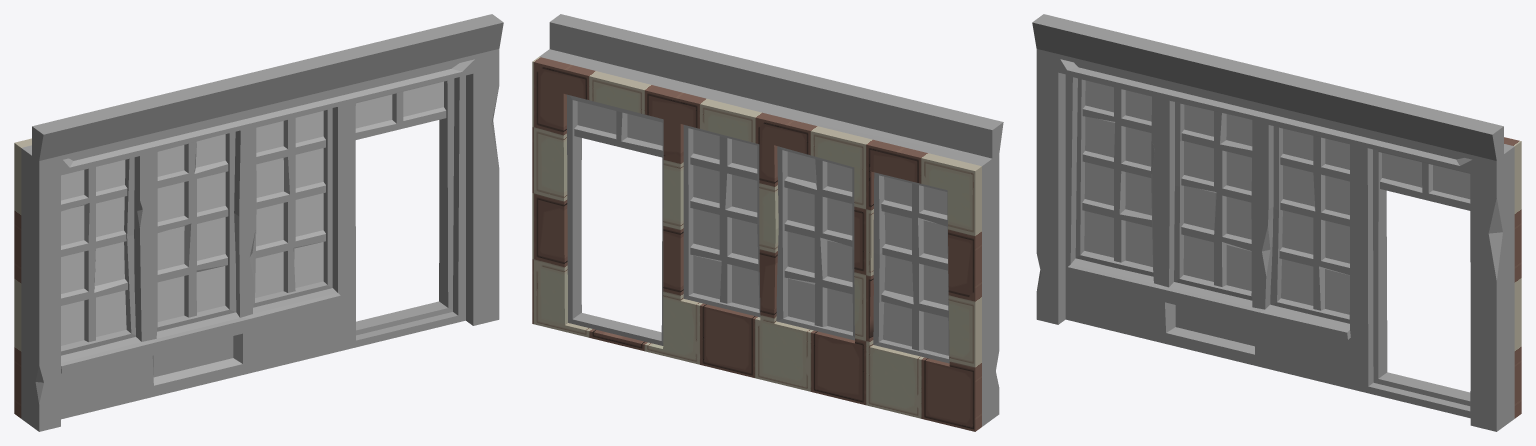
File: SM_Bld_ShopFront_03.fbx
3 views of the same model, side by side, from view 1: azimuth 30°, elevation 25°; view 2: azimuth 150°, elevation 25°; view 3: azimuth 330°, elevation 25° (orthographic). The views are drawn at different scales.
Parts seen in each view (by area): view 1: SM_Bld_ShopFront_03, SM_Bld_ShopFront_03_Glass; view 2: SM_Bld_ShopFront_03, SM_Bld_ShopFront_03_Glass; view 3: SM_Bld_ShopFront_03, SM_Bld_ShopFront_03_Glass.
Boxes of the visible parts, box(x1,y1,x2,y2) form: SM_Bld_ShopFront_03: box(14, 14, 503, 431); SM_Bld_ShopFront_03_Glass: box(61, 81, 443, 345); SM_Bld_ShopFront_03: box(532, 14, 1003, 431); SM_Bld_ShopFront_03_Glass: box(577, 101, 948, 355); SM_Bld_ShopFront_03: box(1032, 14, 1521, 431); SM_Bld_ShopFront_03_Glass: box(1084, 80, 1470, 314).
Bounding box in the file's own units: 500 × 312 × 55.38.
